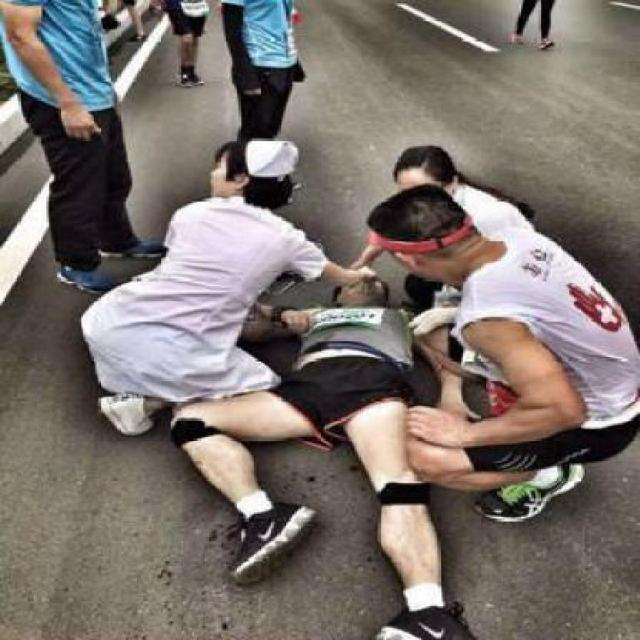fall: (170, 256, 465, 633)
